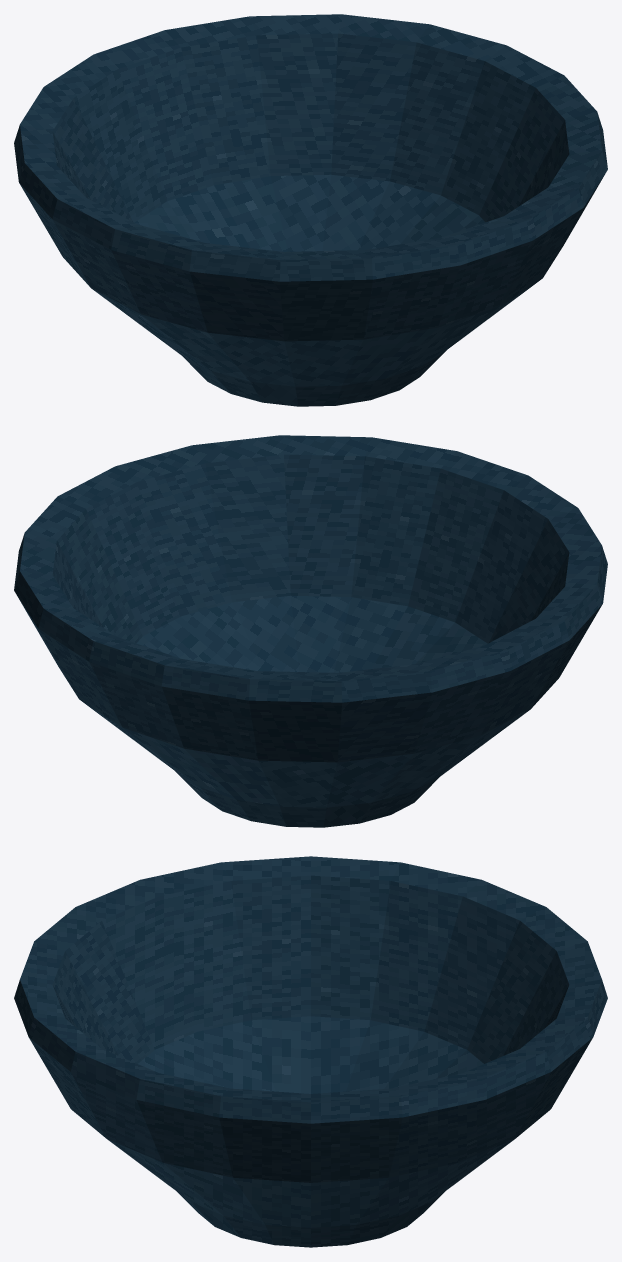
Rendered from level_loose_bowl.glb.
3 renders of one model, top to bottom at view 1: azimuth 30°, elevation 25°; view 2: azimuth 150°, elevation 25°; view 3: azimuth 270°, elevation 25°, orthographic.
Visible parts, largest first — view 1: level_loose_bowl; view 2: level_loose_bowl; view 3: level_loose_bowl.
Part boxes in pixels (x1,y1,x2,y2): level_loose_bowl: [14, 14, 607, 406]; level_loose_bowl: [14, 435, 607, 827]; level_loose_bowl: [14, 856, 607, 1247].
Size of the model in its own units: 0.2 by 0.081 by 0.2.
Materials: 1 (1 with a texture image).
